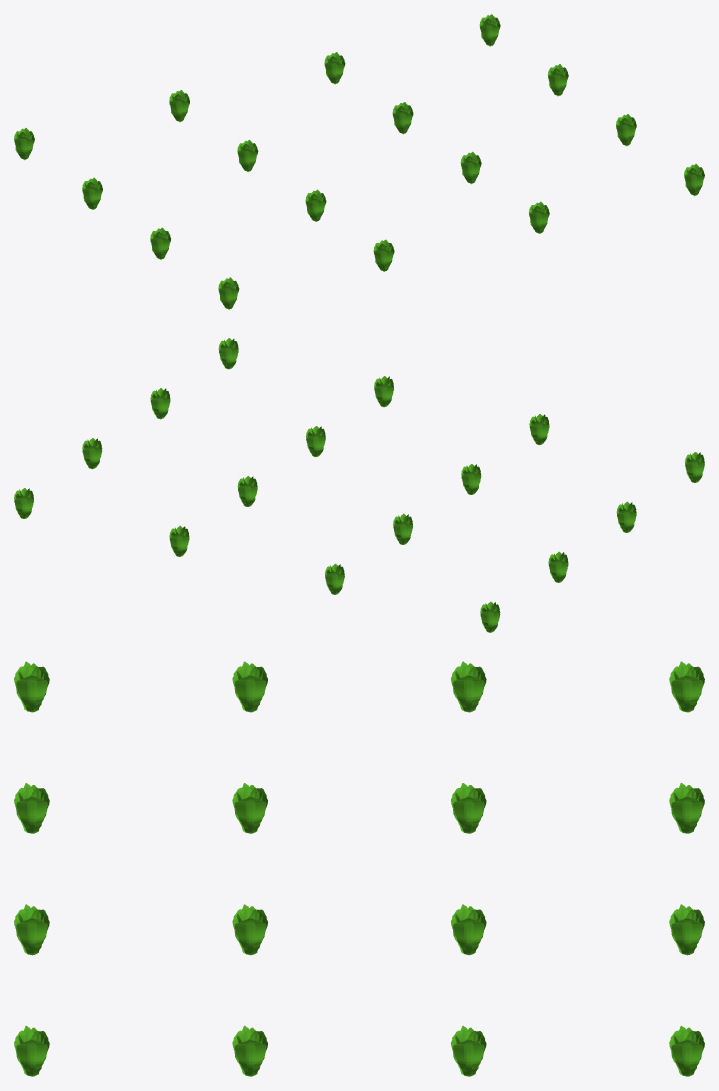
Rendered from lettuces2.fbx.
The picture shows the model from 3 angles, top to bottom: view 1: azimuth 30°, elevation 25°; view 2: azimuth 150°, elevation 25°; view 3: azimuth 270°, elevation 25°; orthographic projection. The views are drawn at different scales.
Parts seen in each view (by area): view 1: lettuce stage 2; view 2: lettuce stage 2; view 3: lettuce stage 2.
Part boxes in pixels (<box>): lettuce stage 2: <box>14,14,704,309</box>; lettuce stage 2: <box>14,338,704,632</box>; lettuce stage 2: <box>14,661,704,1076</box>.
Size of the model in its own units: 690 by 40.2 by 533.
